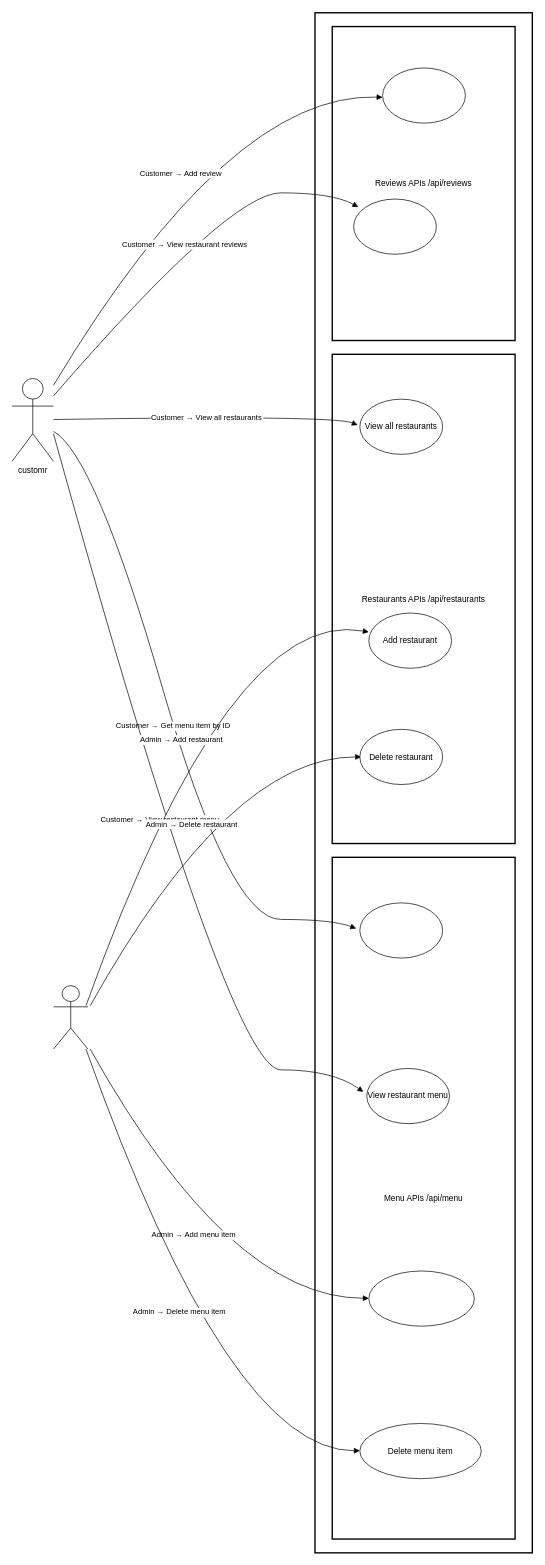
The diagram is 545 pixels wide and 1565 high, and some of its shapes have lost their labels. The shapes that lost their labels are listed below. From the top down, each one's centre as x and y in pixels, then its label:
At (423,95): "Add review".
At (394,226): "View restaurant reviews".
At (401,930): "Get menu item by ID".
At (70,1017): "Admin".
At (421,1298): "Add menu item".
